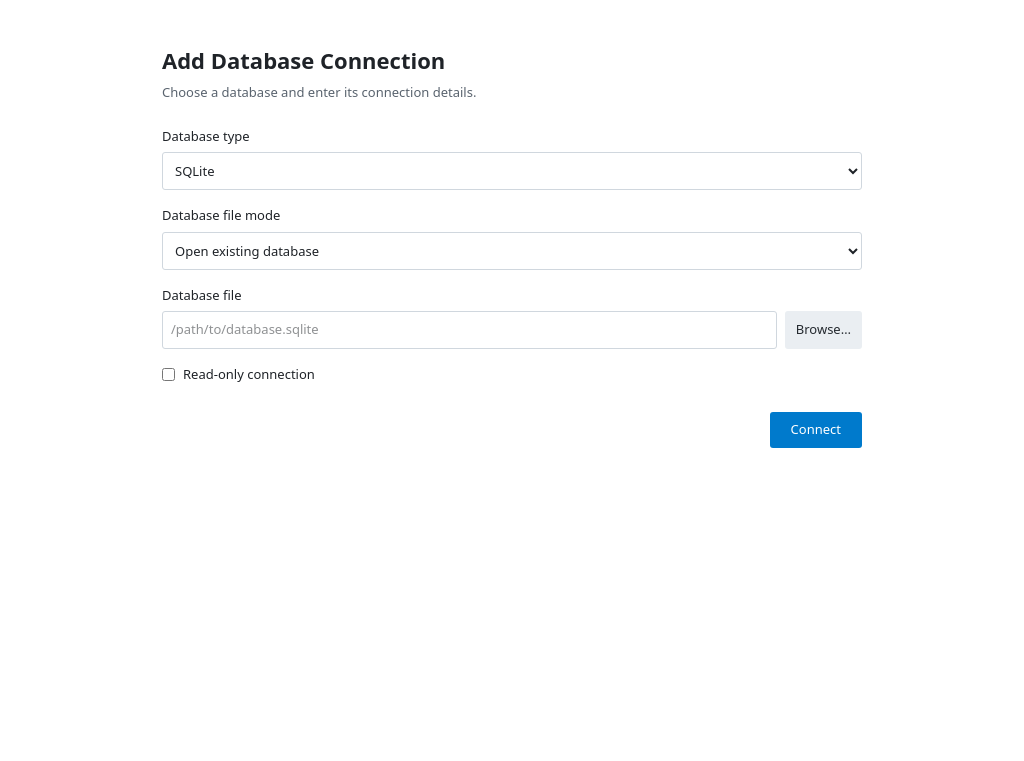
Test: keeps SSH identity separate from the database login and submits tunnel settings
Later steps or results of the test are not shown.
Expected: the field labelled "Connect via SSH" is not shown
Select "PostgreSQL" in the dropdown labelled "Database type" at (512, 171), box [162, 152, 862, 190]
(page scrolled)
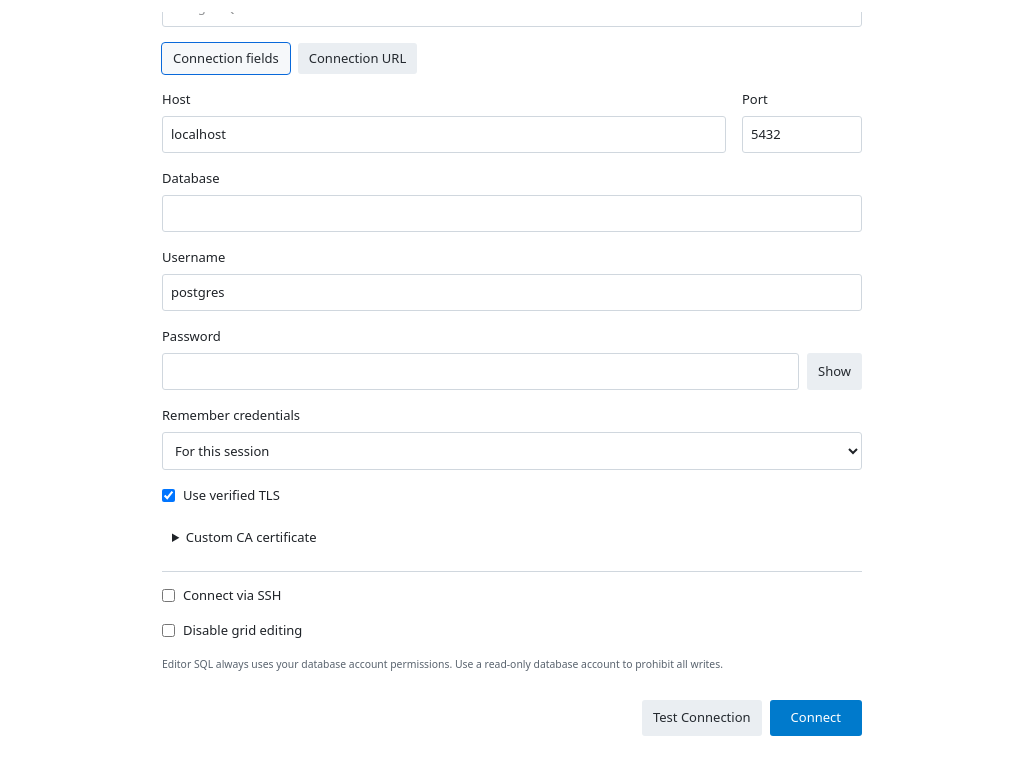
Click the checkbox labelled "Connect via SSH" at (168, 595), box [162, 589, 175, 602]
(page scrolled)
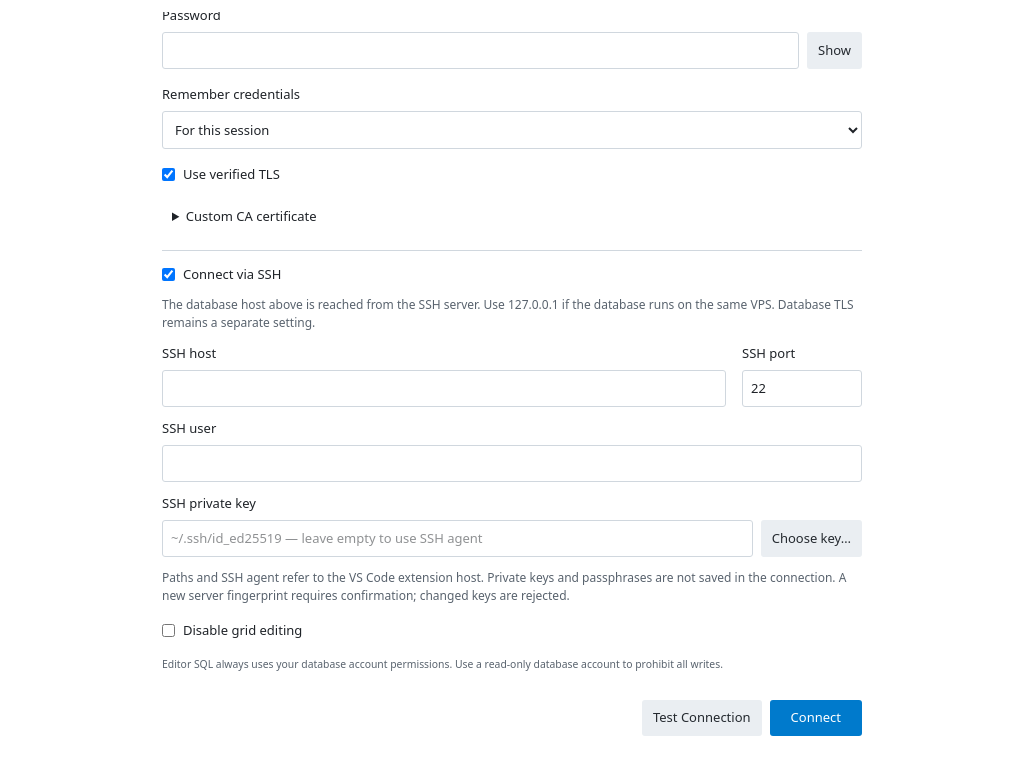
Click the button "Test Connection" at (702, 718), box [642, 700, 762, 736]
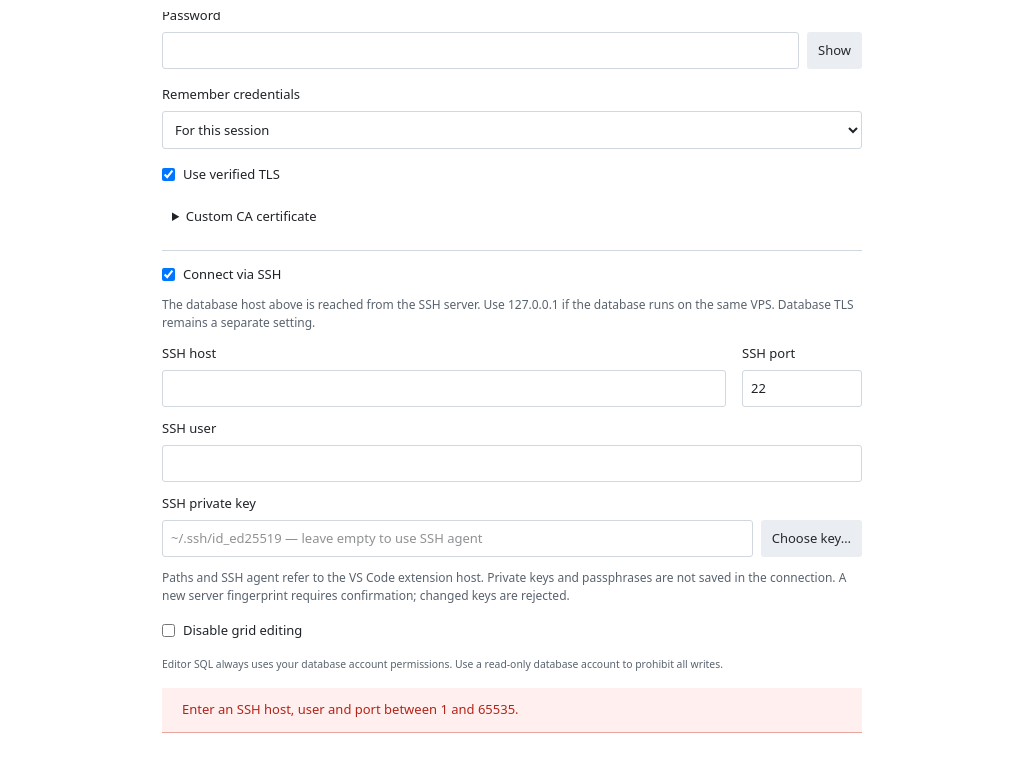
Now the message shows "SSH host", box [182, 700, 519, 718]
